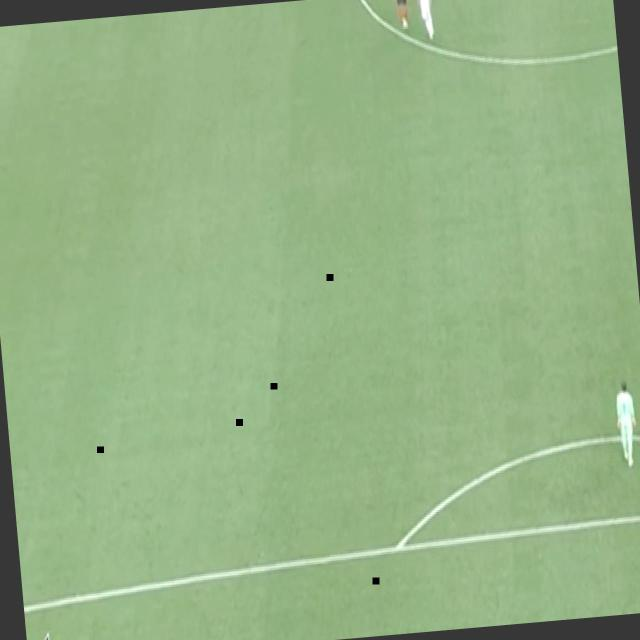player-white: (609, 374, 640, 475), (413, 0, 438, 48), (392, 0, 417, 38)
